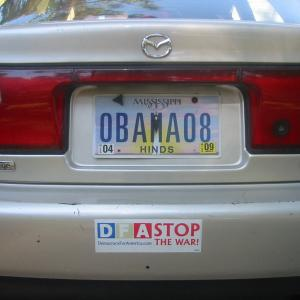Vehicle-registration-plate: (94, 92, 223, 157)
